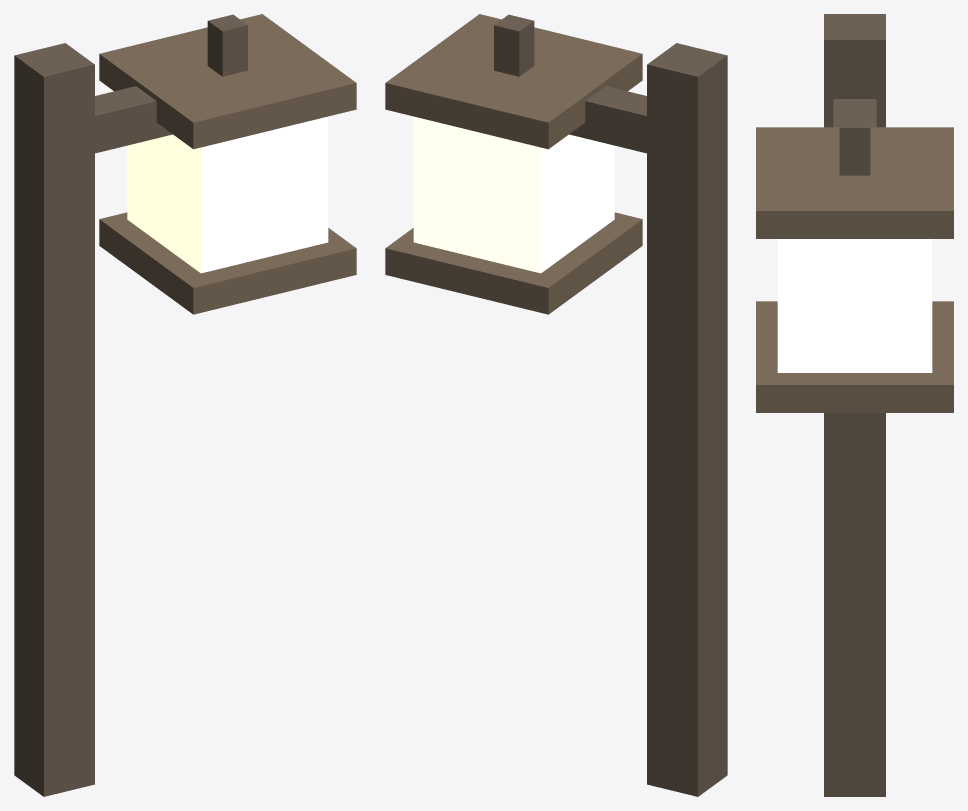
The model's file is lamp_low.glb.
3 renders of one model, left to right at view 1: azimuth 30°, elevation 25°; view 2: azimuth 150°, elevation 25°; view 3: azimuth 270°, elevation 25°, orthographic. The views are drawn at different scales.
Parts seen in each view (by area): view 1: lamp_low; view 2: lamp_low; view 3: lamp_low.
Part boxes in pixels (x1,y1,x2,y2): lamp_low: (14,14,356,796); lamp_low: (385,14,727,796); lamp_low: (756,14,953,796).
Bounding box in the file's own units: 0.55 × 1.35 × 0.32.
